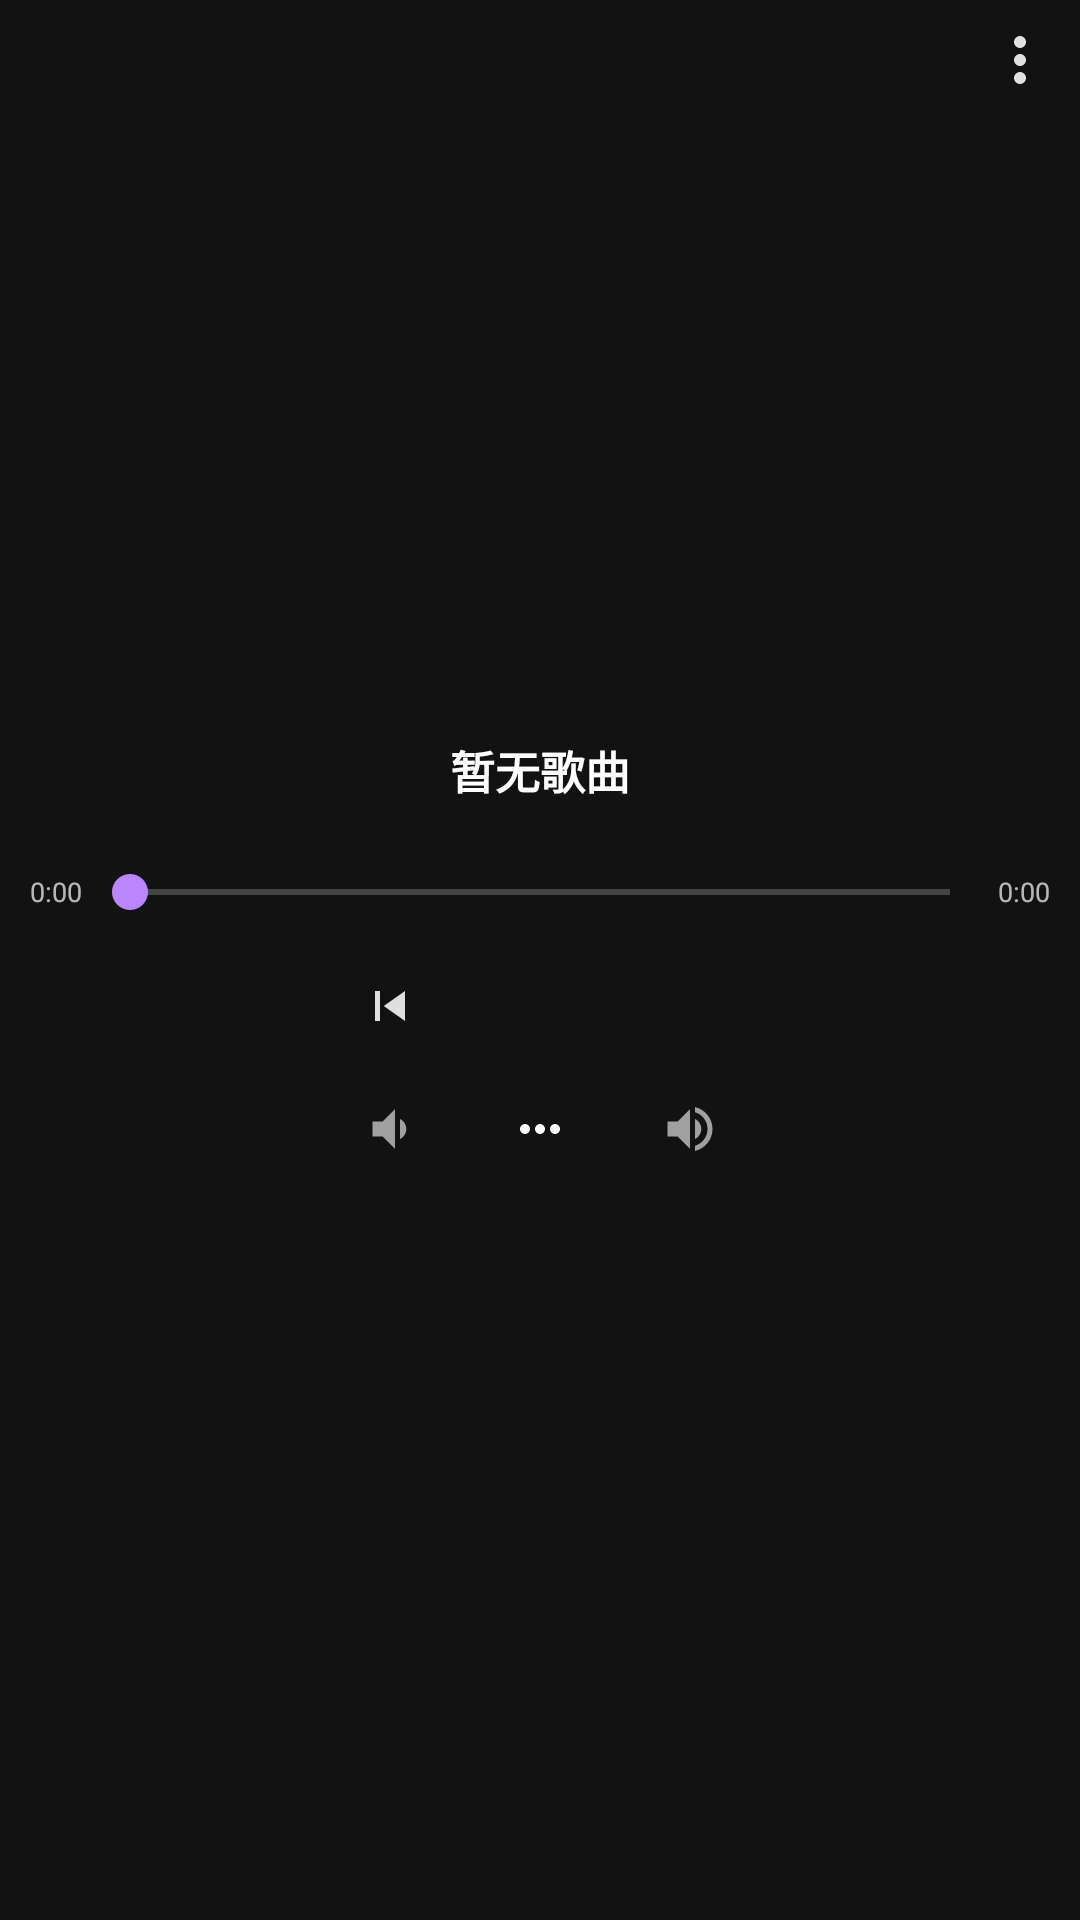

Where to tap for icons on this 1080w x 1920h app screen, as [x,y]:
more horiz: [540,1129]
more vert: [1020,60]
skip previous: [390,1006]
volume down: [389,1129]
volume up: [690,1129]
